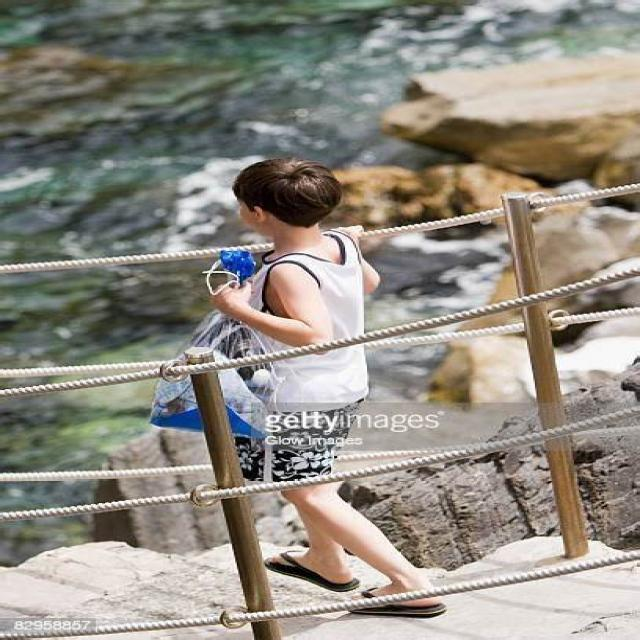No_Shoe: (322, 570, 449, 618), (266, 537, 349, 587)
